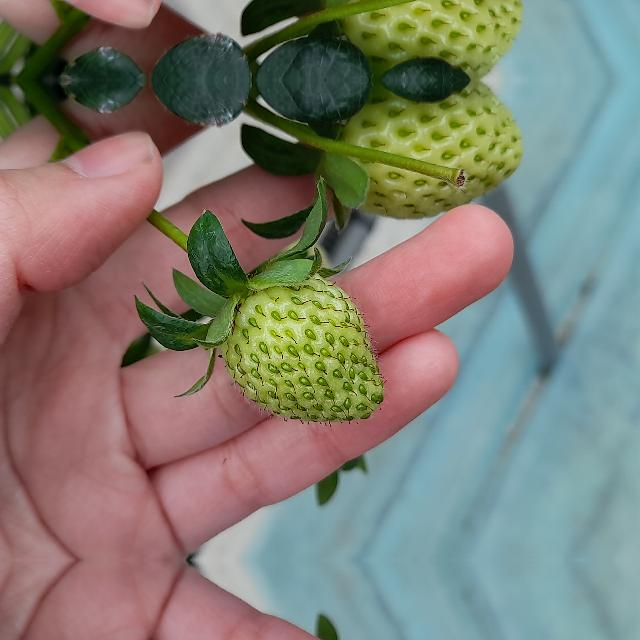Health_25: (328, 80, 524, 224), (220, 274, 384, 422), (328, 0, 524, 80)
